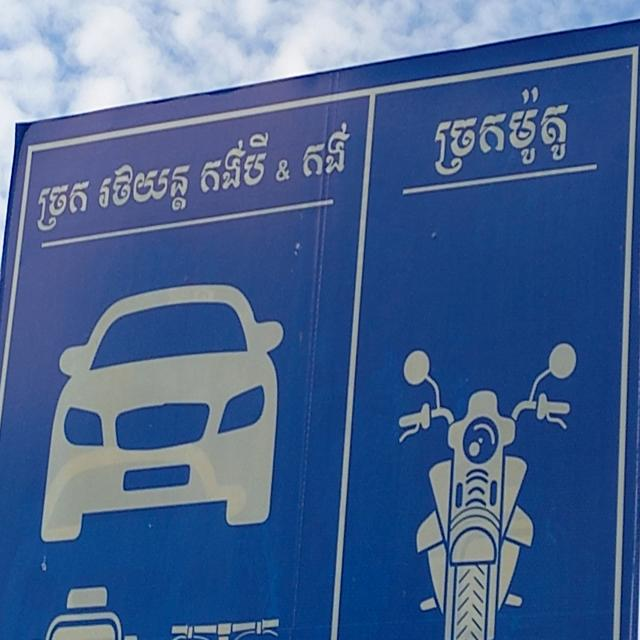4: (30, 108, 358, 237)
Yolov11_80vkh: (424, 71, 592, 183)
